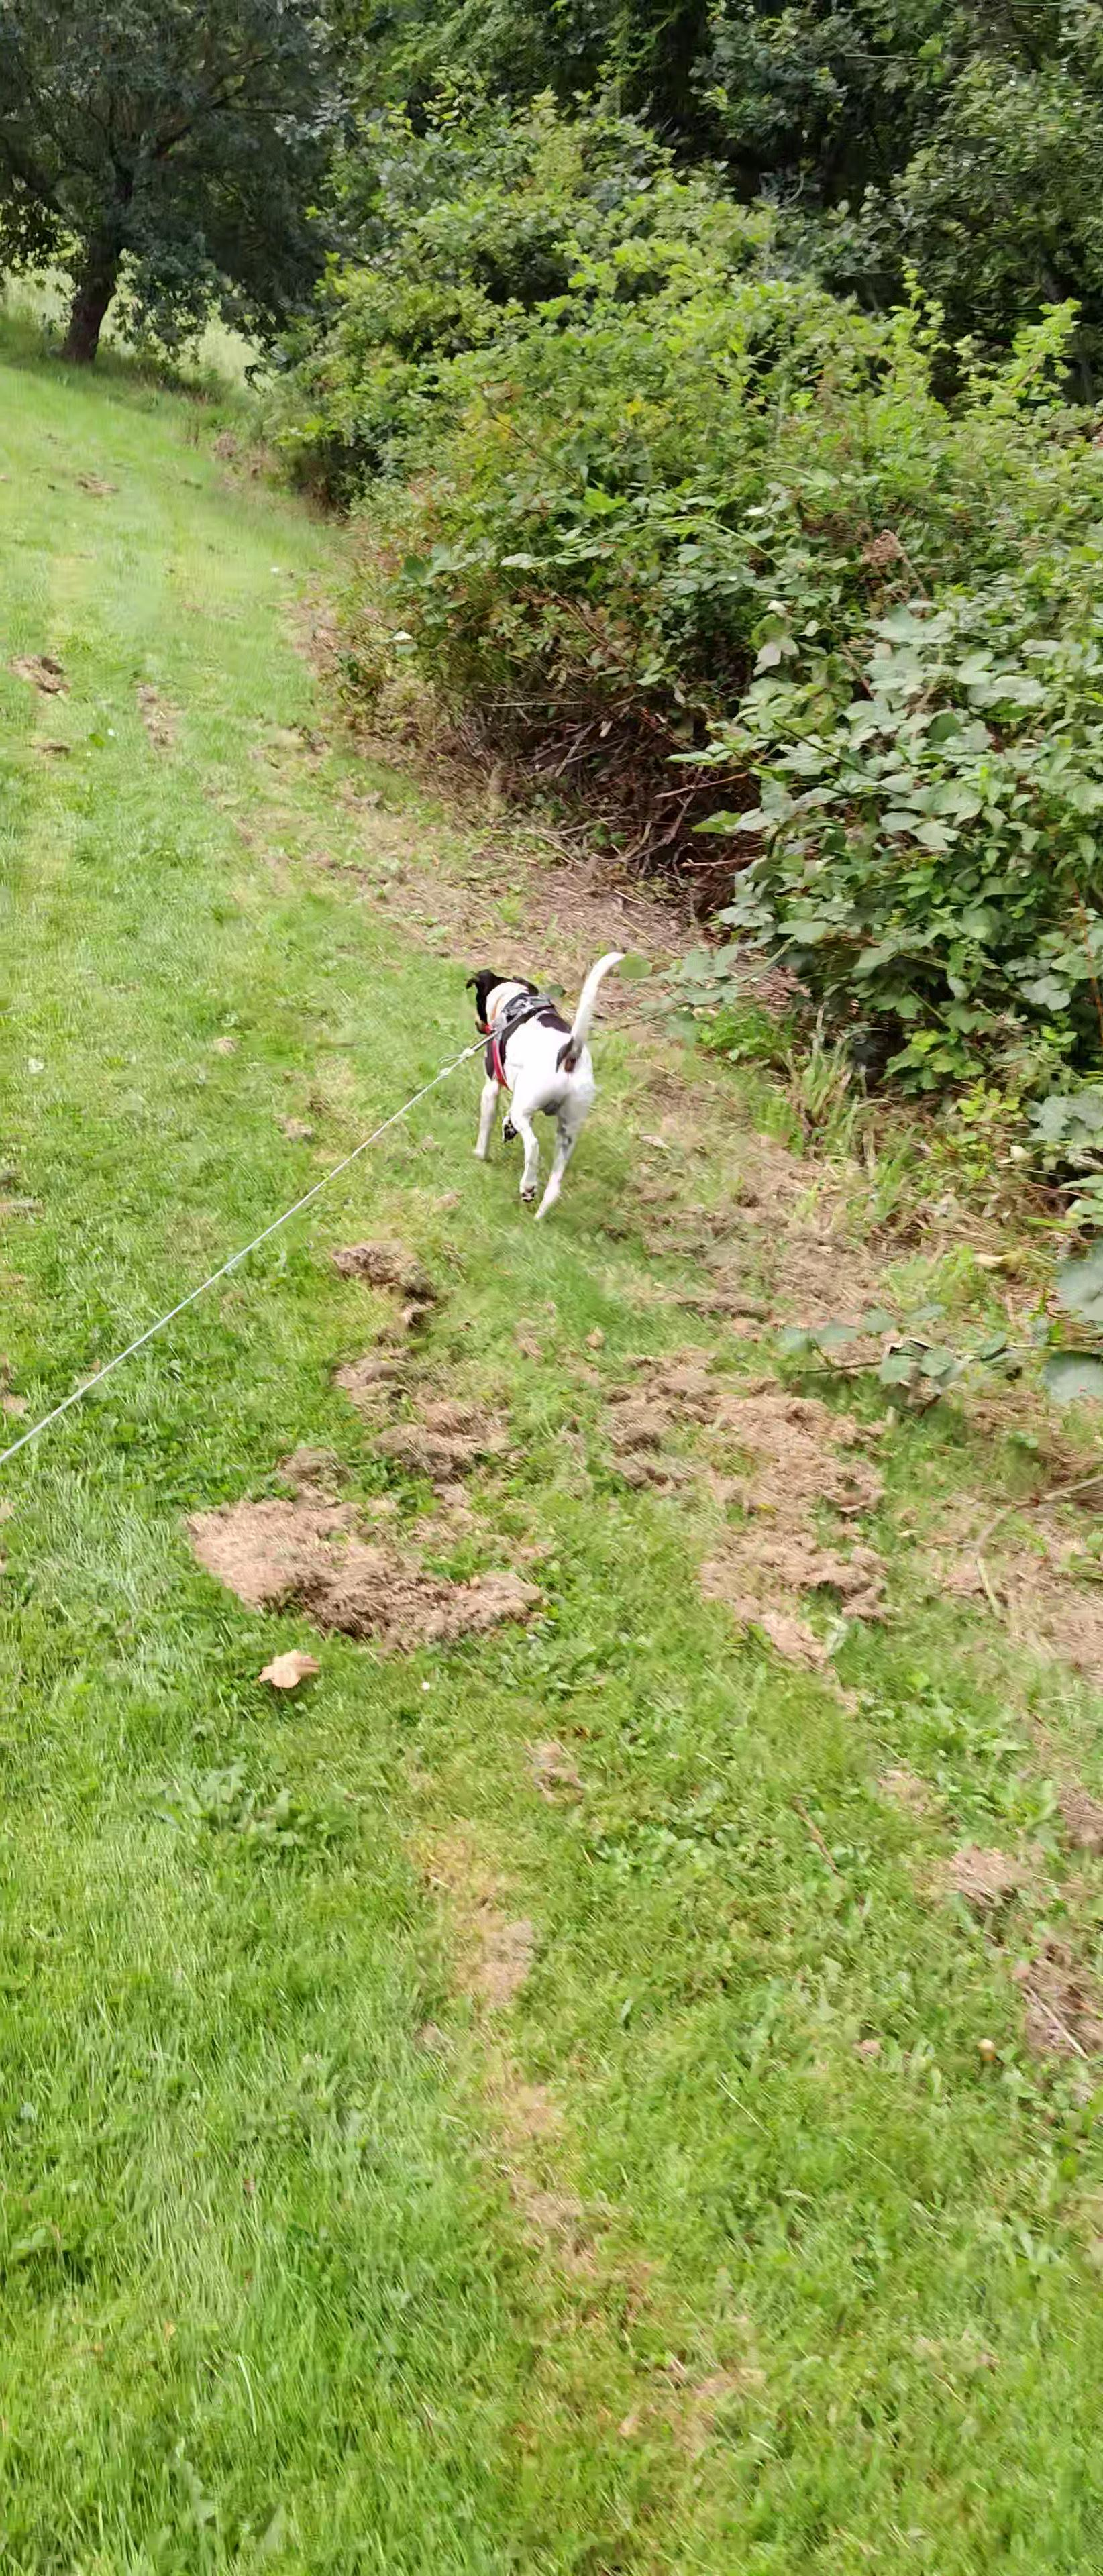Dog: (460, 945, 631, 1227)
